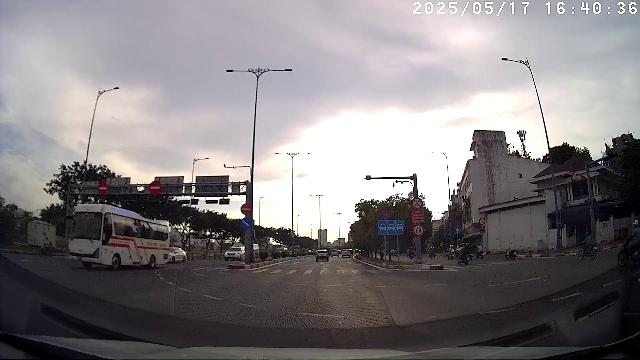102-cam-di-nguoc-chieu: (148, 180, 162, 195), (98, 180, 108, 195), (241, 203, 252, 215)
127-toc-do-toi-da-60: (412, 224, 424, 236)
302a-huong-phai-di-vong-chuong-ngai-vat-1: (240, 217, 253, 230)
